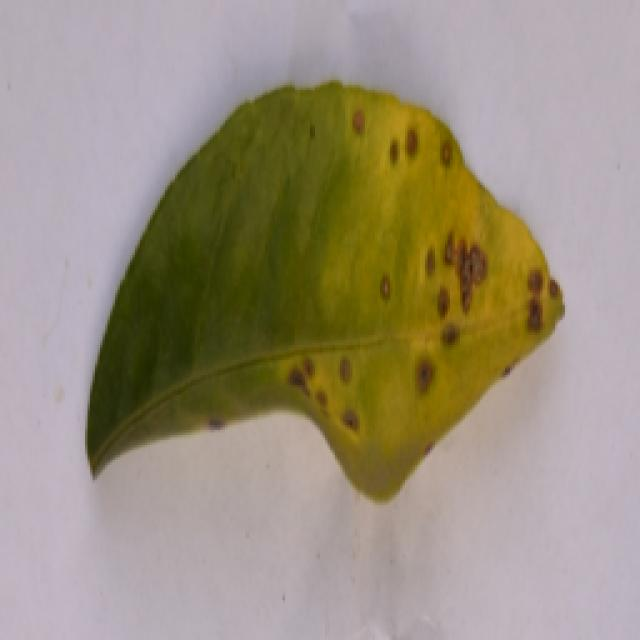canker: (91, 59, 572, 512)
